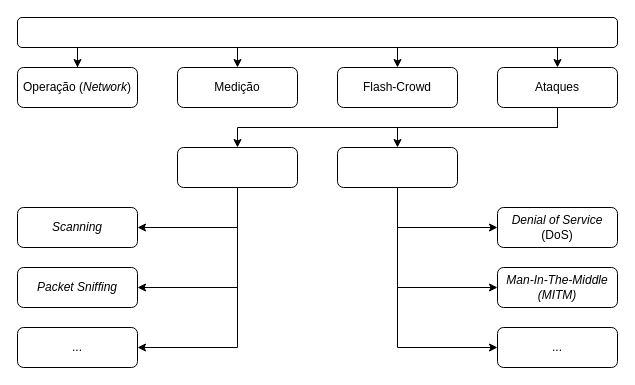
Image size: 635x385. Some labels were removed from this diagram. Here are the shapes that lost their labels. From the top down, the centre of each, then its label:
At [317,32]: "Anomalias".
At [237,167]: "Passivo".
At [397,167]: "Ativo".
